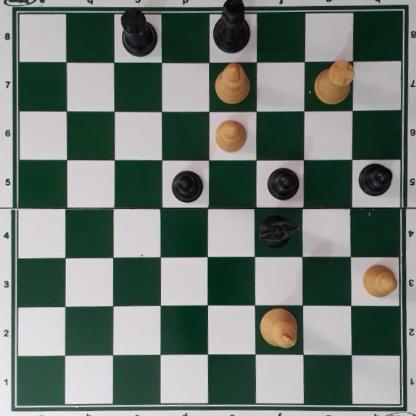black-king: (211, 1, 251, 56)
black-knight: (259, 213, 300, 248)
black-pawn: (357, 162, 392, 196), (170, 169, 204, 202), (267, 165, 298, 200)
black-rook: (118, 7, 159, 55)
white-bishop: (214, 62, 250, 104)
white-king: (258, 306, 298, 348)
white-pawn: (360, 263, 397, 299), (213, 117, 247, 153)
white-rook: (314, 58, 355, 105)
